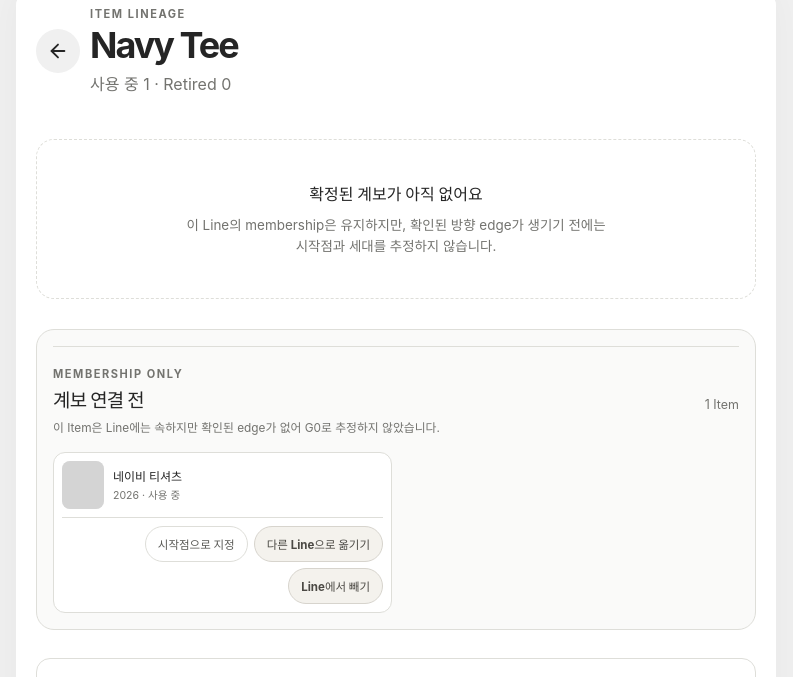
Scenario: ReplacementLineagePage › moves an unconnected Item into a new Line and opens its reviewed lineage
Expected: the heading "Navy Tee" is shown, [90, 27, 238, 65]
Click the button "다른 Line으로 옮기기".
click(318, 544)  # box [254, 526, 383, 562]
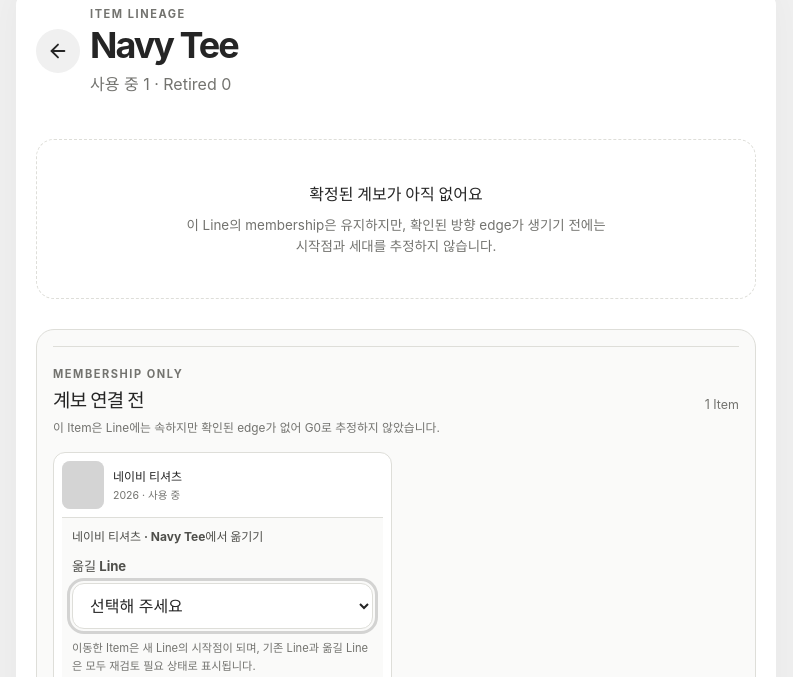
Select "+ 새 Line 만들기" in the dropdown labelled "옮길 Line" at point(222, 606), box [72, 583, 373, 629]
(page scrolled)
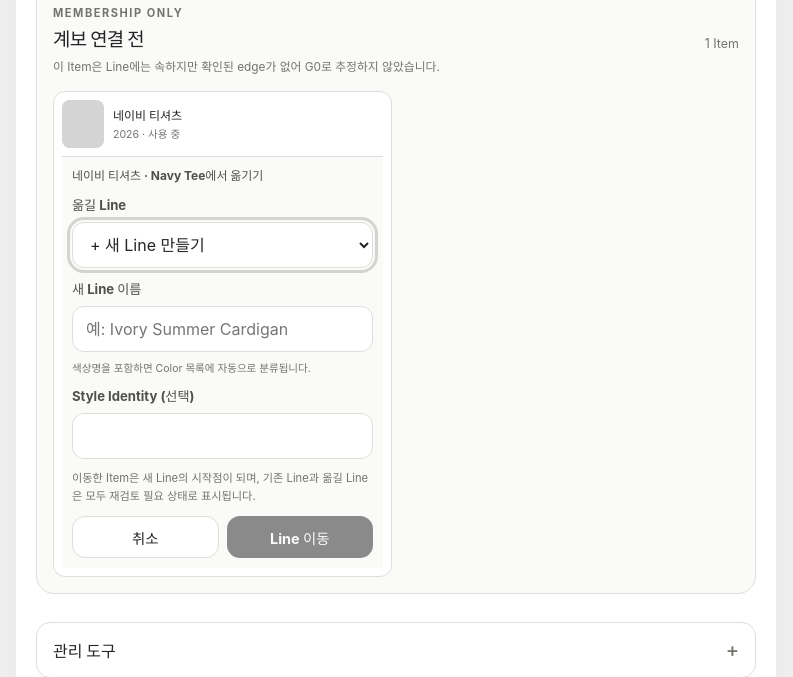
Type "Navy Summer Tee" into the field labelled "새 Line 이름 색상명을 포함하면 Color 목록에 자동으로 분류됩니다.".
click(222, 329); type("Navy Summer Tee")  # box [72, 306, 373, 352]
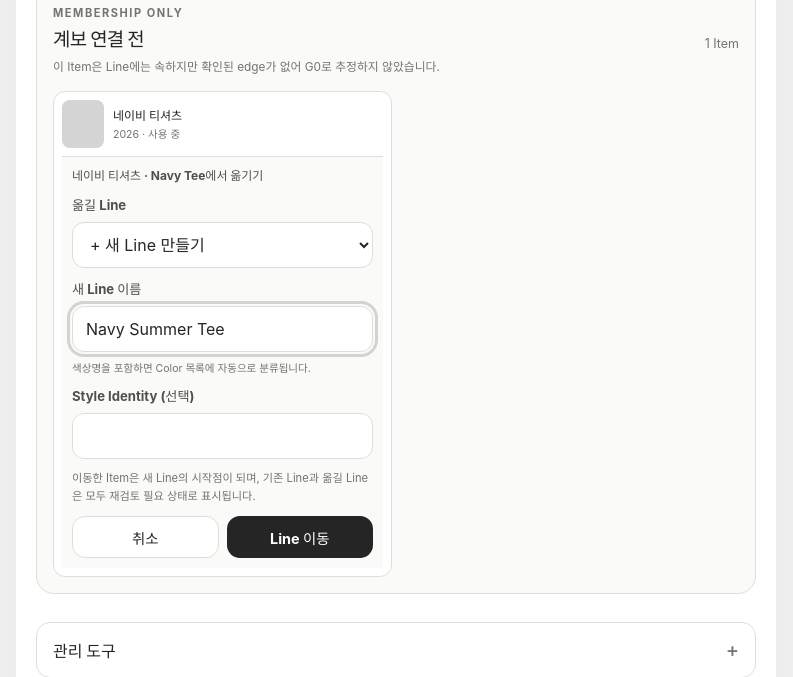
Type "Summer Daily" into the field labelled "Style Identity (선택)".
click(222, 436); type("Summer Daily")  # box [72, 413, 373, 459]
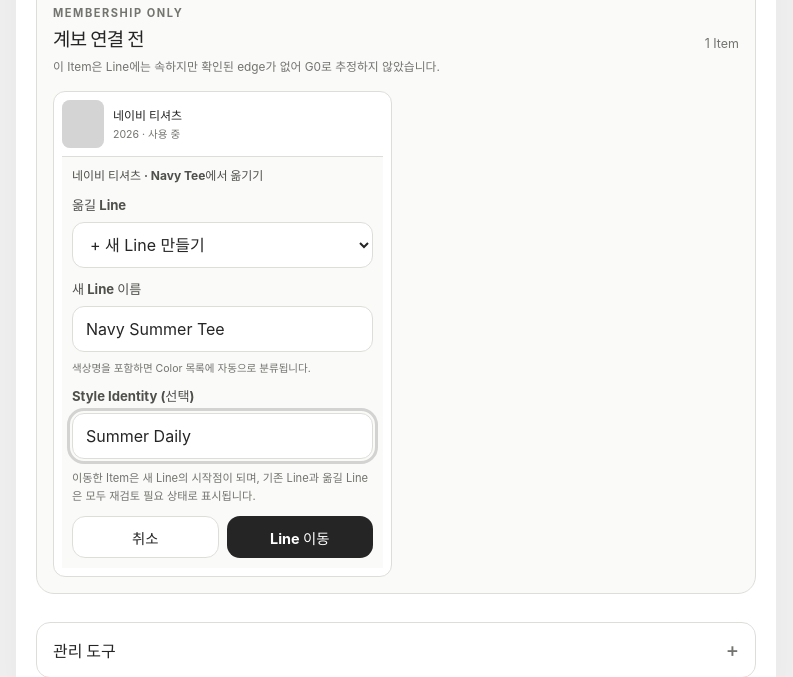
Click the button "Line 이동".
click(300, 537)  # box [226, 516, 373, 558]
(page scrolled)
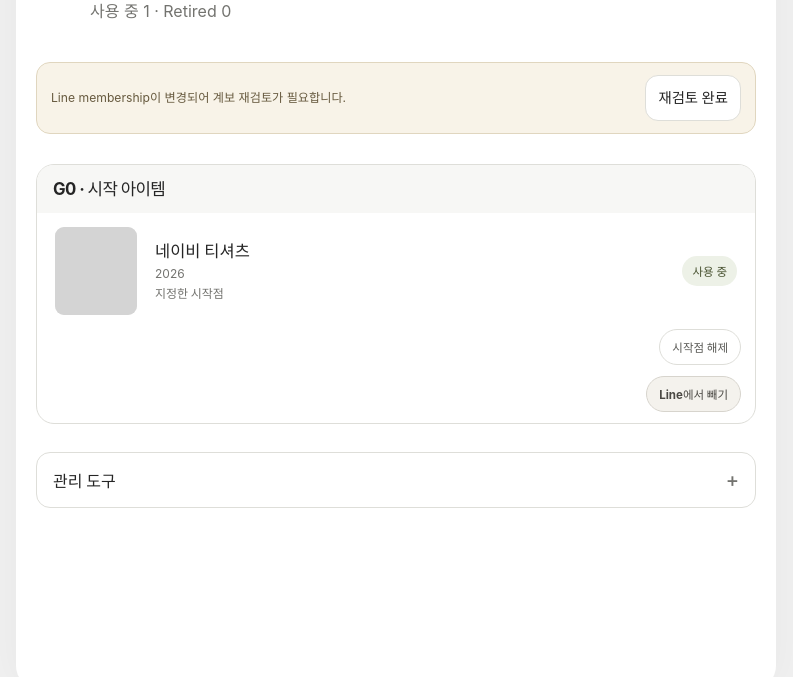
Expected: the text "지정한 시작점" is shown, [155, 286, 224, 301]
Expected: the text "Line membership이 변경되어 계보 재검토가 필요합니다." is shown, [51, 89, 346, 107]
Click the button "재검토 완료".
click(693, 98)  # box [645, 75, 741, 121]
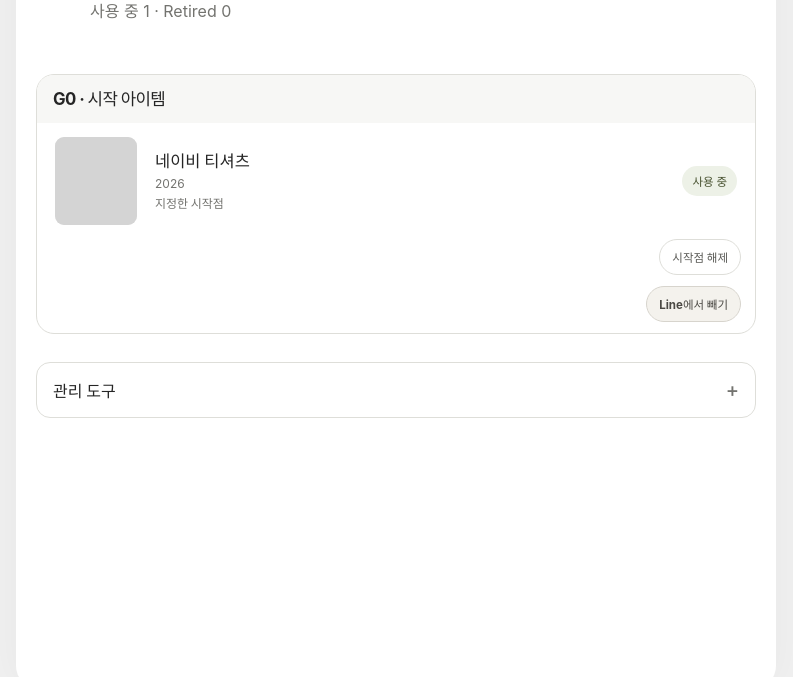
Expected: the text "Line membership이 변경되어 계보 재검토가 필요합니다." is gone
